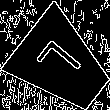L_SE: (34, 37, 91, 93)
